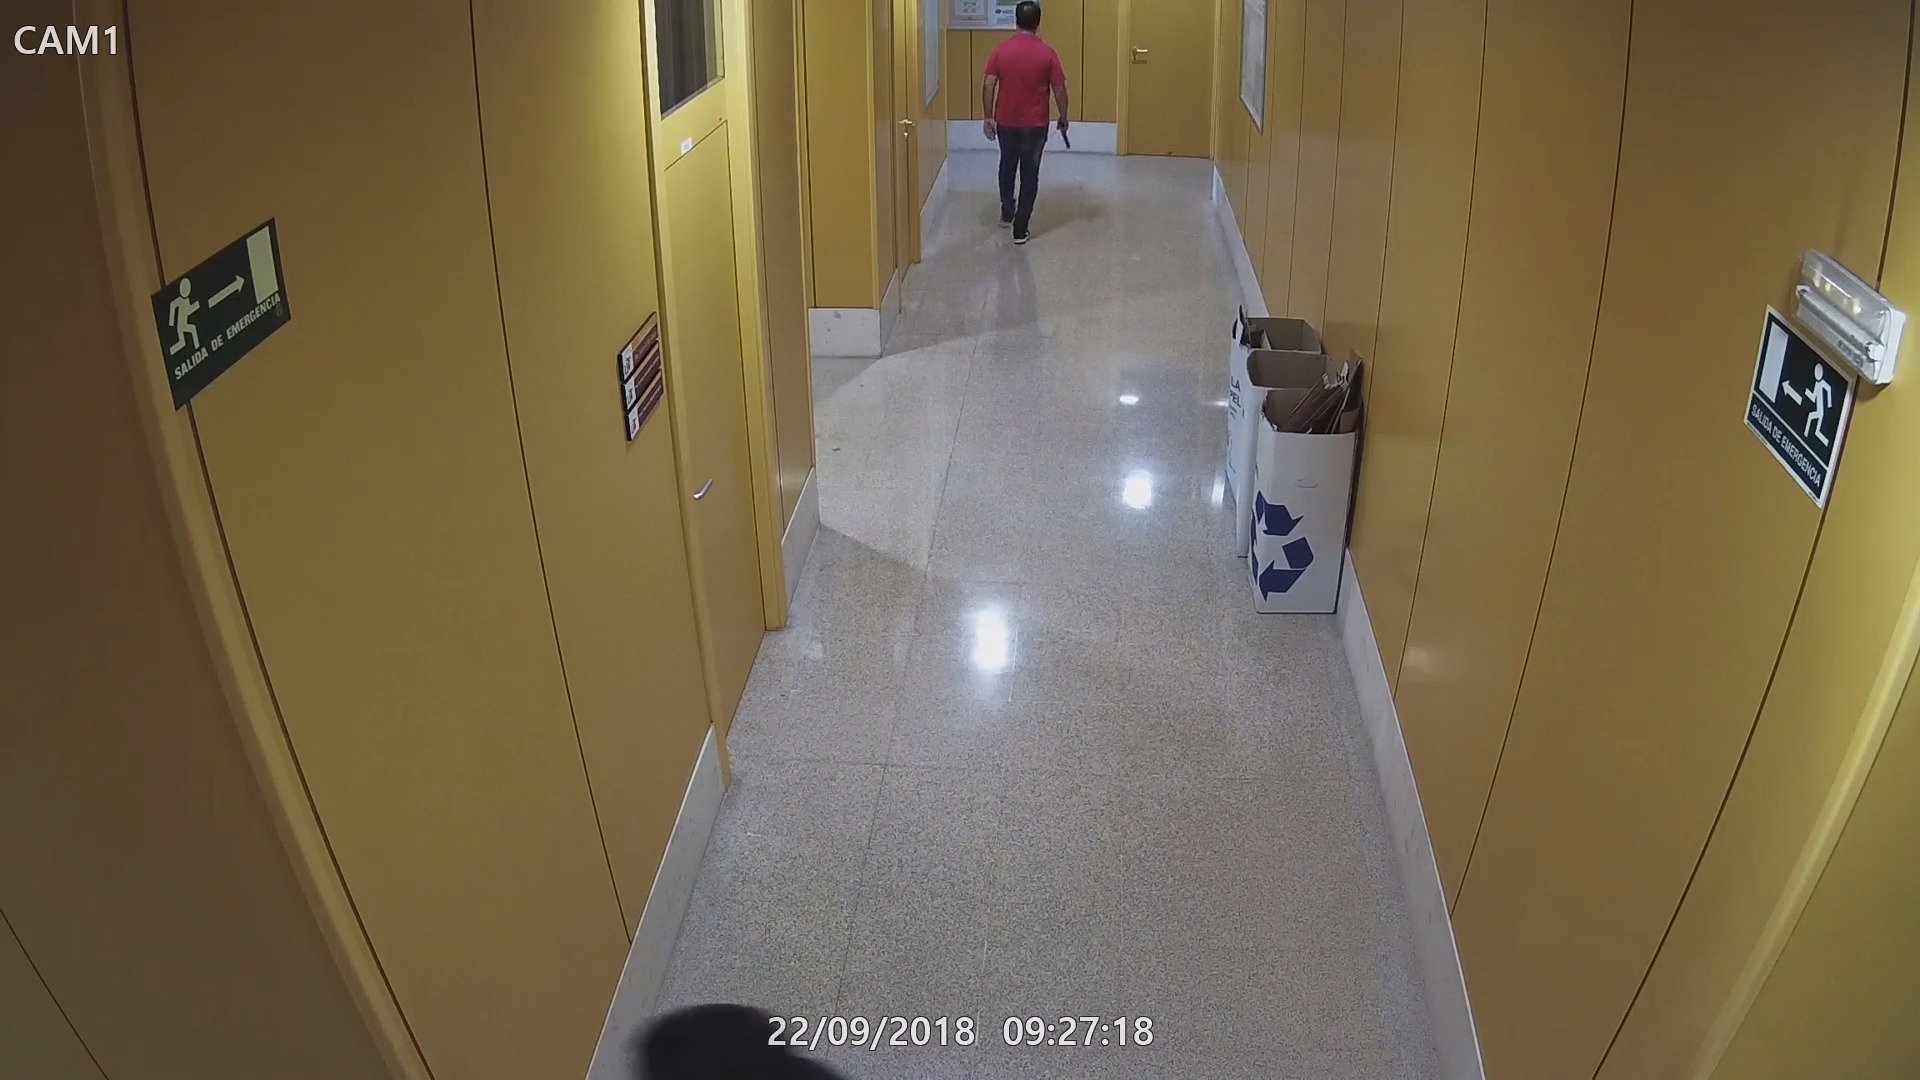Handgun: (1051, 116, 1077, 152)
